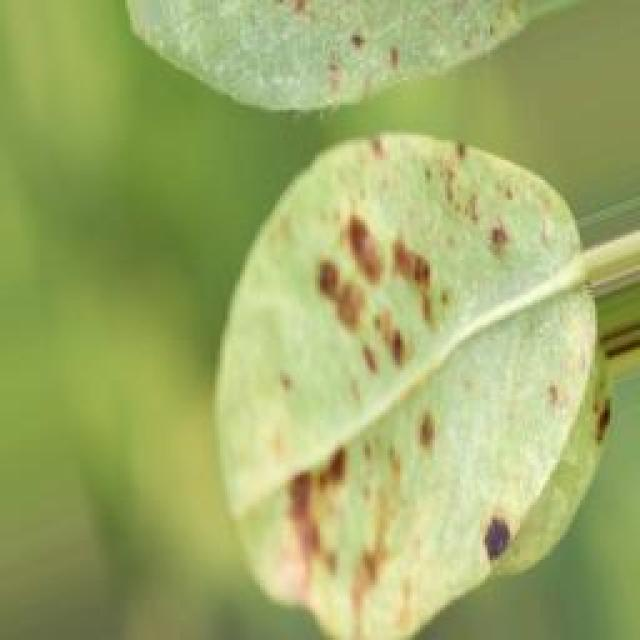Whitefly: (129, 0, 585, 618)
